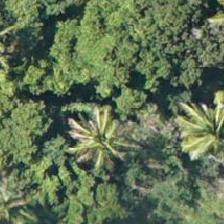coconut_tree: (70, 97, 160, 187), (164, 87, 223, 177), (0, 153, 51, 223)
